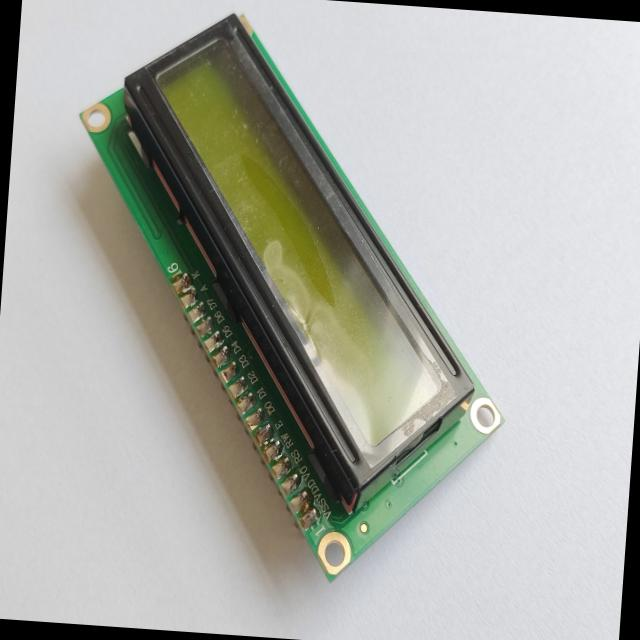lcd: (34, 0, 543, 616)
